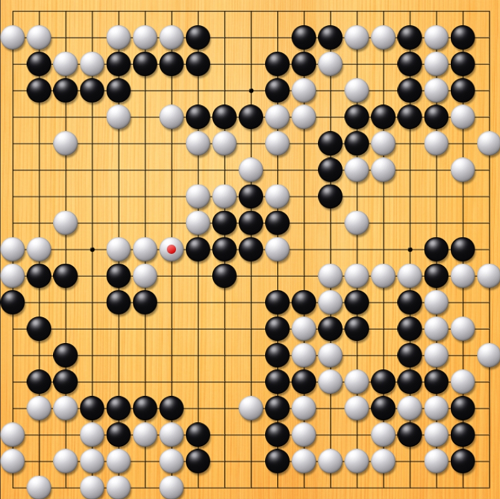black: (21, 263, 47, 289), (21, 316, 47, 342), (21, 369, 47, 395), (21, 50, 47, 76), (21, 76, 47, 102), (48, 263, 74, 289), (48, 342, 74, 368), (48, 369, 74, 395), (48, 76, 74, 102), (75, 396, 101, 422), (75, 76, 101, 102), (102, 263, 128, 289), (102, 289, 128, 315), (102, 396, 128, 422), (102, 422, 128, 448), (102, 50, 128, 76), (102, 76, 128, 102), (128, 289, 154, 315), (128, 396, 154, 422), (128, 50, 154, 76), (155, 396, 181, 422), (155, 50, 181, 76), (182, 236, 208, 262), (182, 422, 208, 448), (182, 449, 208, 475), (182, 23, 208, 49), (182, 50, 208, 76), (182, 103, 208, 129), (209, 236, 235, 262), (209, 263, 235, 289), (209, 103, 235, 129), (209, 209, 235, 235), (236, 236, 262, 262), (236, 103, 262, 129), (236, 183, 262, 209), (236, 209, 262, 235), (262, 289, 288, 315), (262, 316, 288, 342), (262, 342, 288, 368), (262, 369, 288, 395), (262, 396, 288, 422), (262, 422, 288, 448), (262, 449, 288, 475), (262, 50, 288, 76), (262, 76, 288, 102), (262, 209, 288, 235), (289, 289, 315, 315), (289, 369, 315, 395), (289, 23, 315, 49), (289, 50, 315, 76), (316, 316, 342, 342), (316, 23, 342, 49), (316, 130, 342, 156), (316, 156, 342, 182), (316, 183, 342, 209), (343, 289, 369, 315), (343, 316, 369, 342), (343, 103, 369, 129), (343, 130, 369, 156), (369, 369, 395, 395), (369, 396, 395, 422), (369, 103, 395, 129), (396, 289, 422, 315), (396, 316, 422, 342), (396, 342, 422, 368), (396, 369, 422, 395), (396, 422, 422, 448), (396, 23, 422, 49), (396, 50, 422, 76), (396, 76, 422, 102), (396, 103, 422, 129), (423, 236, 449, 262), (423, 263, 449, 289), (423, 369, 449, 395), (423, 103, 449, 129), (450, 236, 476, 262), (450, 396, 476, 422), (450, 422, 476, 448), (450, 449, 476, 475), (450, 23, 476, 49), (450, 50, 476, 76), (450, 76, 476, 102), (1, 289, 21, 315)
white: (22, 237, 46, 261), (22, 397, 46, 421), (22, 24, 46, 48), (49, 397, 73, 421), (49, 450, 73, 474), (49, 51, 73, 75), (49, 131, 73, 155), (49, 210, 73, 234), (76, 423, 100, 447), (76, 450, 100, 474), (76, 51, 100, 75), (103, 237, 127, 261), (103, 450, 127, 474), (103, 24, 127, 48), (103, 104, 127, 128), (129, 237, 153, 261), (129, 264, 153, 288), (129, 423, 153, 447), (129, 24, 153, 48), (156, 237, 180, 261), (156, 423, 180, 447), (156, 450, 180, 474), (156, 24, 180, 48), (156, 104, 180, 128), (183, 131, 207, 155), (183, 184, 207, 208), (183, 210, 207, 234), (210, 131, 234, 155), (210, 184, 234, 208), (237, 397, 261, 421), (237, 157, 261, 181), (263, 237, 287, 261), (263, 104, 287, 128), (263, 131, 287, 155), (263, 184, 287, 208), (290, 317, 314, 341), (290, 343, 314, 367), (290, 397, 314, 421), (290, 423, 314, 447), (290, 450, 314, 474), (290, 77, 314, 101), (290, 104, 314, 128), (317, 264, 341, 288), (317, 290, 341, 314), (317, 343, 341, 367), (317, 370, 341, 394), (317, 450, 341, 474), (317, 51, 341, 75), (344, 264, 368, 288), (344, 370, 368, 394), (344, 397, 368, 421), (344, 450, 368, 474), (344, 24, 368, 48), (344, 77, 368, 101), (344, 157, 368, 181), (344, 210, 368, 234), (370, 264, 394, 288), (370, 423, 394, 447), (370, 450, 394, 474), (370, 24, 394, 48), (370, 131, 394, 155), (370, 157, 394, 181), (397, 264, 421, 288), (397, 397, 421, 421), (424, 290, 448, 314), (424, 317, 448, 341), (424, 343, 448, 367), (424, 397, 448, 421), (424, 423, 448, 447), (424, 450, 448, 474), (424, 24, 448, 48), (424, 51, 448, 75), (424, 77, 448, 101), (424, 131, 448, 155), (451, 264, 475, 288), (451, 317, 475, 341), (451, 370, 475, 394), (451, 104, 475, 128), (451, 157, 475, 181), (22, 477, 46, 499), (76, 477, 100, 499), (103, 477, 127, 499), (156, 477, 180, 499), (478, 264, 500, 288), (478, 343, 500, 367), (478, 131, 500, 155), (1, 237, 20, 261), (1, 264, 20, 288), (1, 423, 20, 447), (1, 450, 20, 474), (1, 24, 20, 48)
